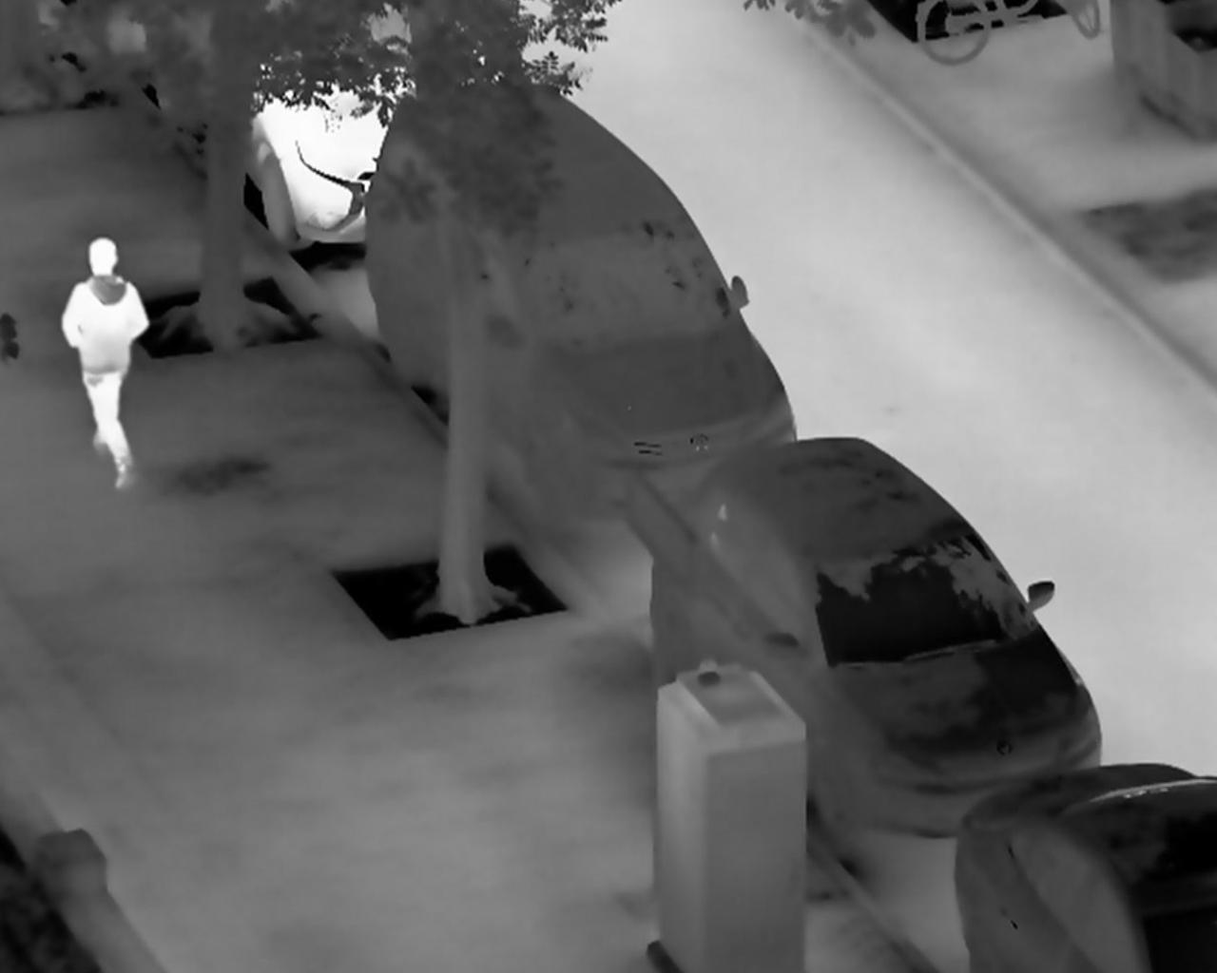person: (57, 236, 152, 494)
